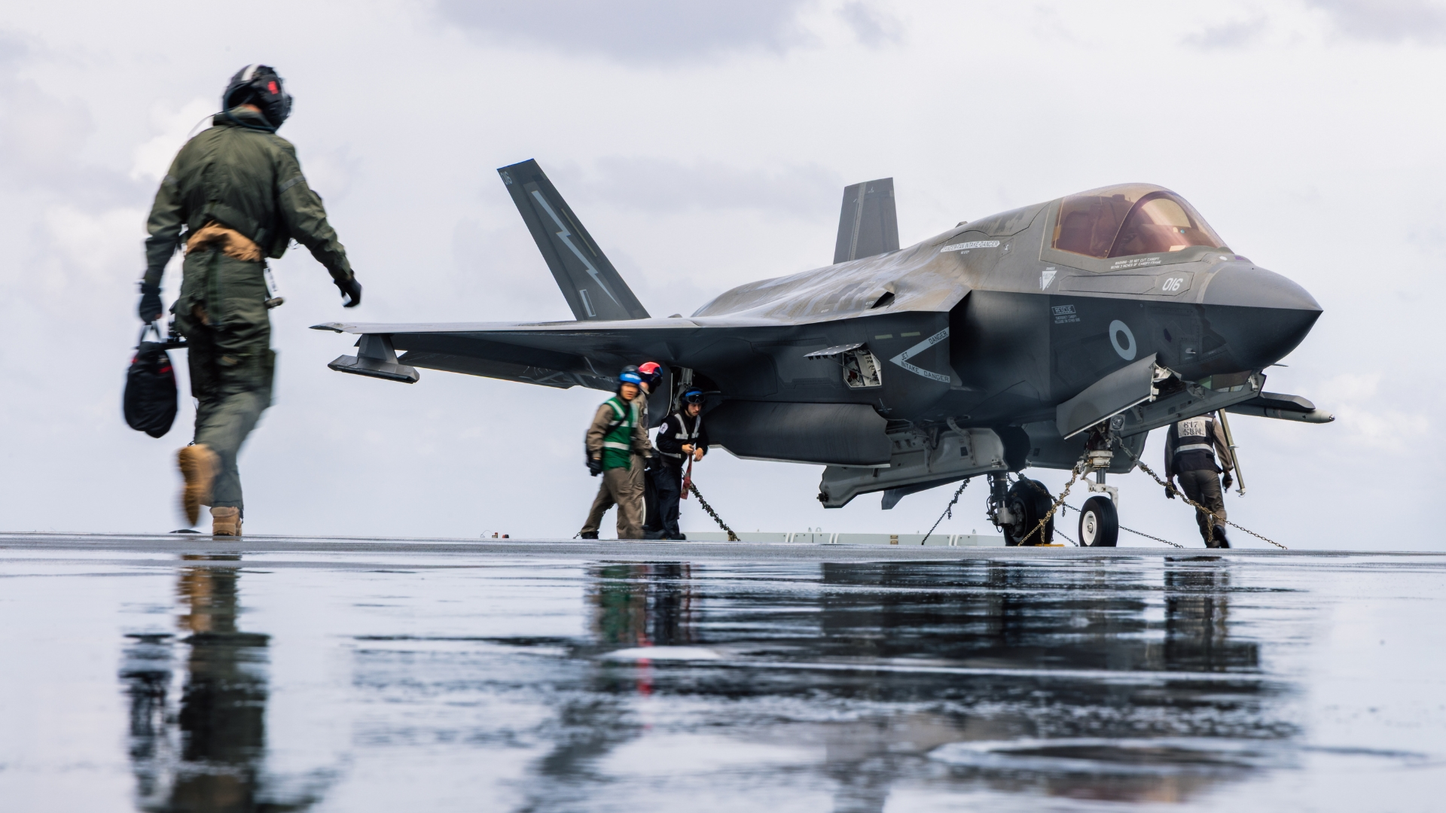F35: (299, 141, 1350, 574)
